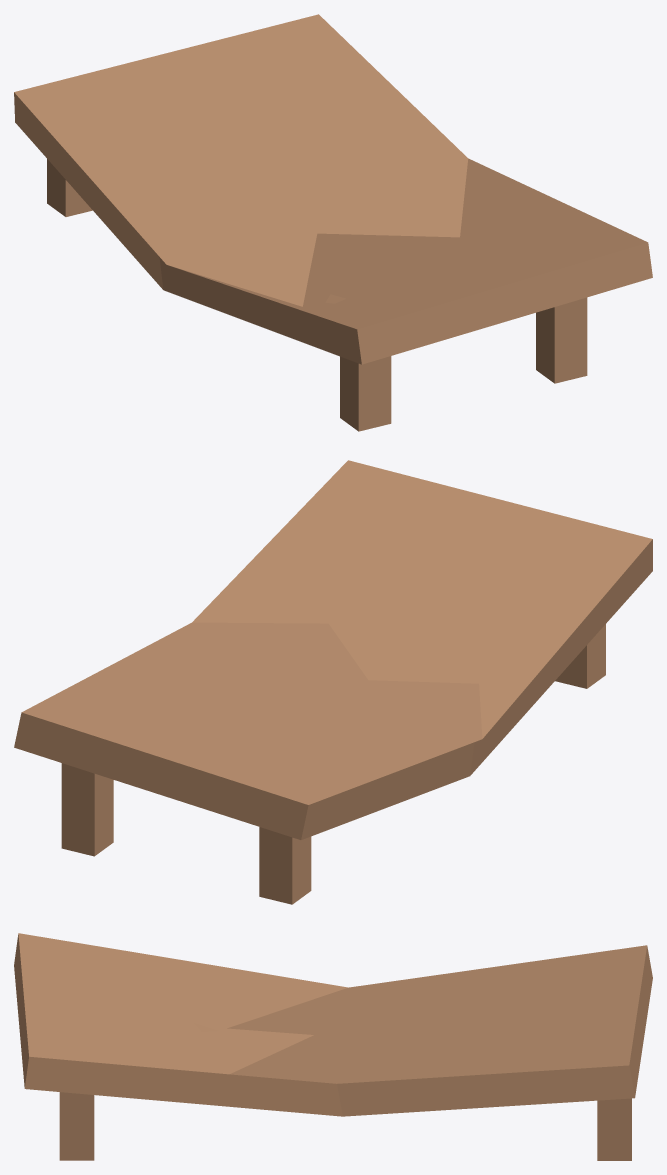
Rendered from cofftableD.fbx.
3 renders of one model, top to bottom at view 1: azimuth 30°, elevation 25°; view 2: azimuth 150°, elevation 25°; view 3: azimuth 270°, elevation 25°, orthographic. The views are drawn at different scales.
Visible parts, largest first — view 1: Cube, Cube.004, Cube.003, Cube.001; view 2: Cube, Cube.002, Cube.001, Cube.003; view 3: Cube, Cube.004, Cube.002.
Part boxes in pixels (x1,y1,x2,y2): Cube: (14, 14, 652, 364); Cube.004: (536, 297, 587, 383); Cube.003: (340, 356, 391, 431); Cube.001: (47, 159, 92, 216); Cube: (14, 460, 652, 839); Cube.002: (61, 763, 113, 856); Cube.001: (259, 827, 311, 904); Cube.003: (555, 624, 605, 688); Cube: (14, 933, 652, 1116); Cube.004: (59, 1092, 94, 1160); Cube.002: (597, 1098, 631, 1160).
Size of the model in its own units: 367 by 153 by 714.
